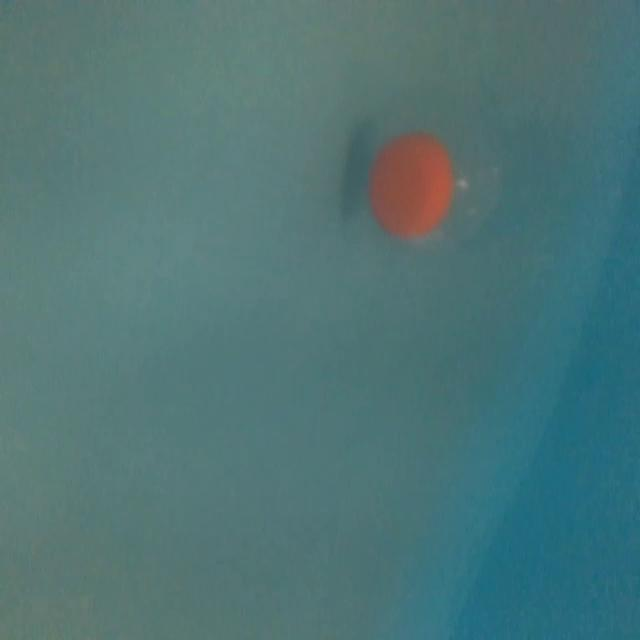plastic bottle: (363, 95, 586, 266)
